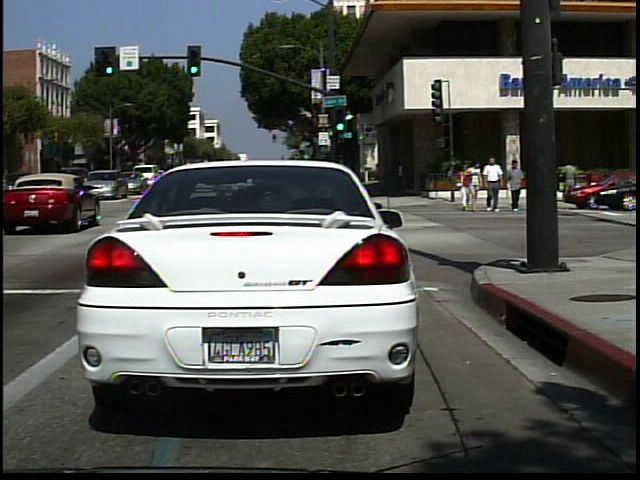person: (482, 155, 506, 214), (558, 156, 583, 205), (505, 156, 526, 211), (458, 163, 474, 213), (473, 157, 486, 210)
